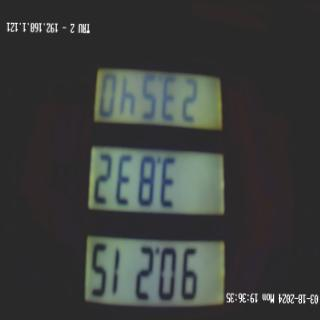screen: (75, 30, 232, 320)
